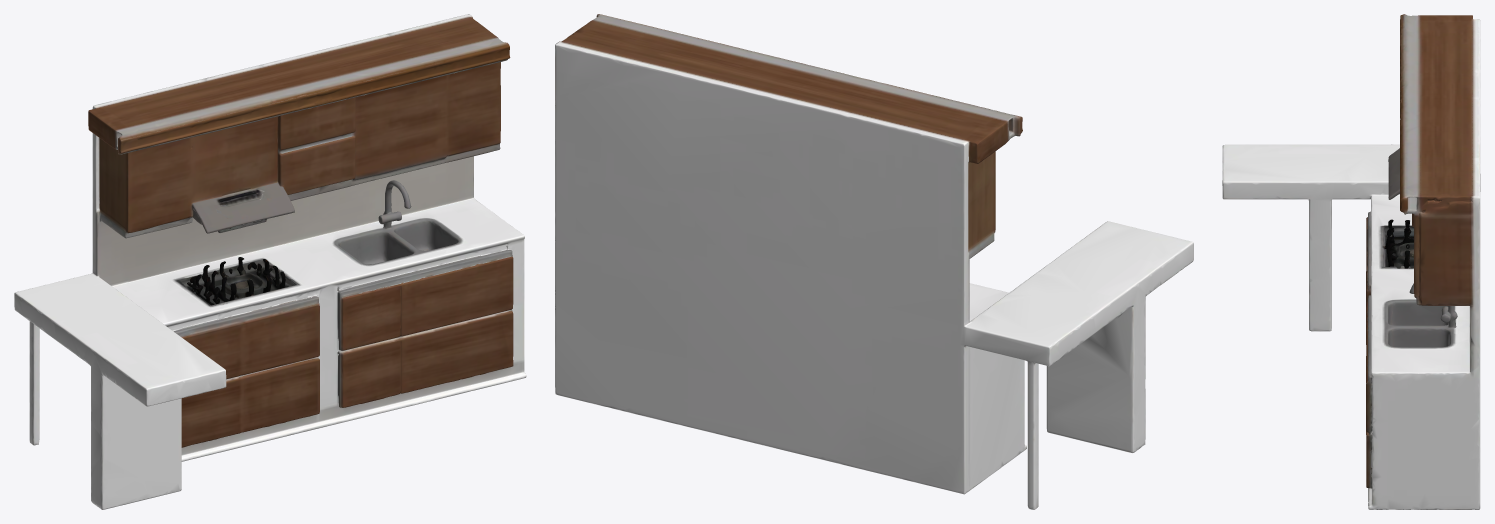
File: kitchencabinet.glb
3 renders of one model, left to right at view 1: azimuth 30°, elevation 25°; view 2: azimuth 150°, elevation 25°; view 3: azimuth 270°, elevation 25°, orthographic. The views are drawn at different scales.
Visible parts, largest first — view 1: geometry_0; view 2: geometry_0; view 3: geometry_0.
Boxes of the visible parts, x1,y1,x2,y2 form: geometry_0: (14,14,526,509); geometry_0: (555,14,1193,509); geometry_0: (1222,14,1480,509).
Bounding box in the file's own units: 1 × 0.679 × 0.5073.
Materials: 1 (1 with a texture image).
